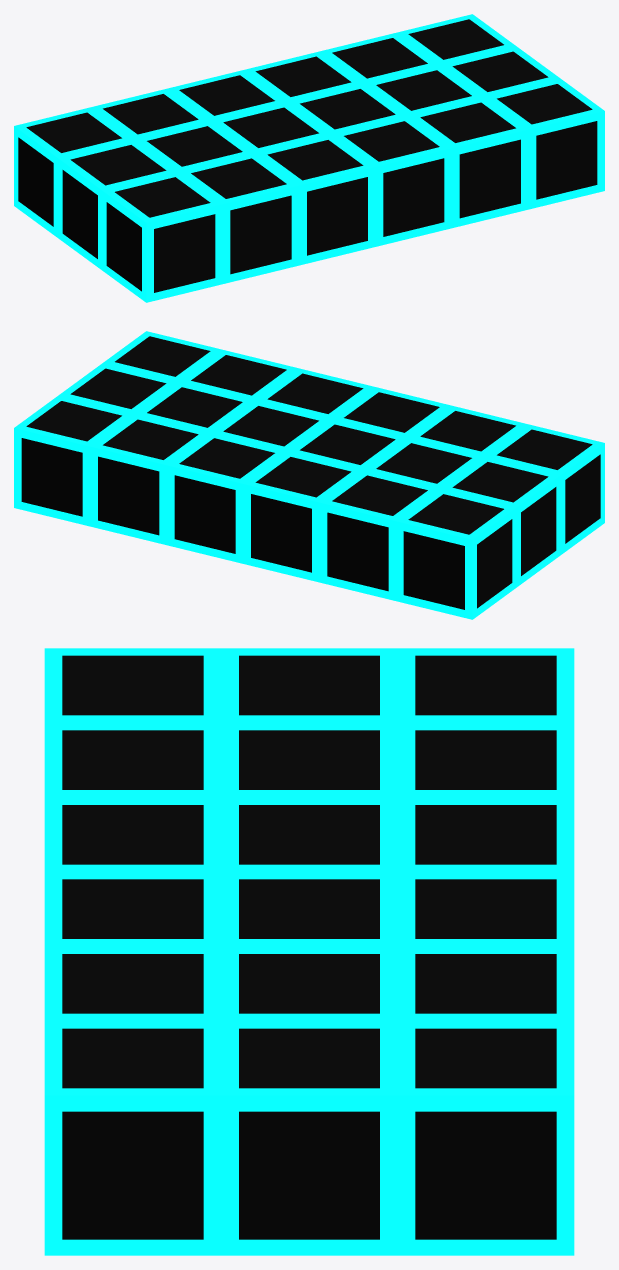
The model's file is Space1.fbx.
3 renders of one model, top to bottom at view 1: azimuth 30°, elevation 25°; view 2: azimuth 150°, elevation 25°; view 3: azimuth 270°, elevation 25°, orthographic. The views are drawn at different scales.
Visible parts, largest first — view 1: Cube; view 2: Cube; view 3: Cube.
Part boxes in pixels (left/top/right/bottom): Cube: left=14, top=14, right=604, bottom=302; Cube: left=14, top=331, right=604, bottom=619; Cube: left=44, top=648, right=574, bottom=1255.
Size of the model in its own units: 1200 by 200 by 600.
